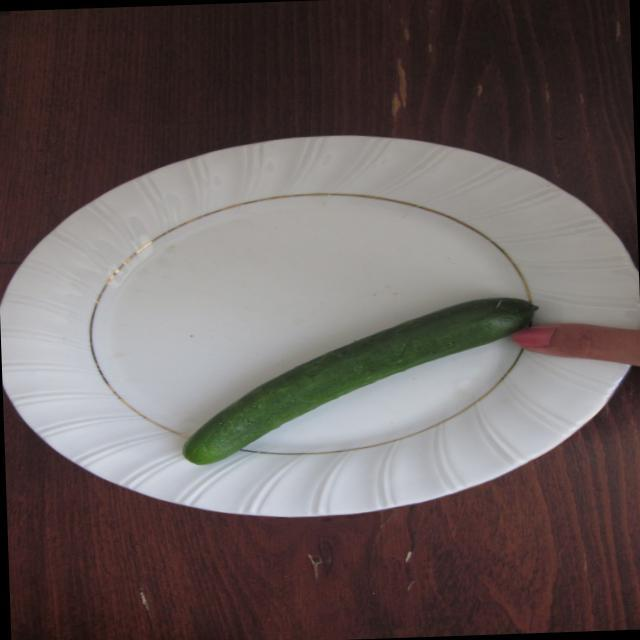Cucumber: (155, 296, 509, 468)
Finger: (512, 318, 622, 370)
